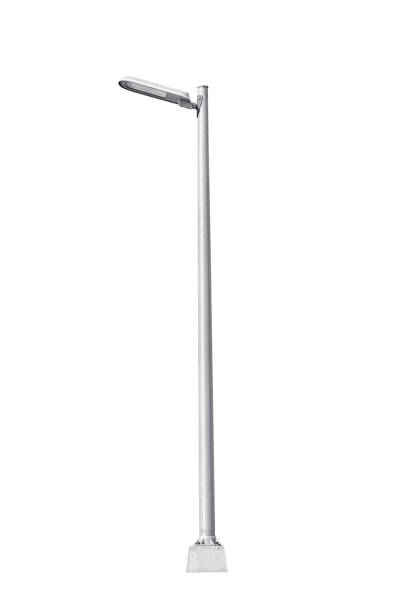light_pole: (190, 89, 225, 566)
